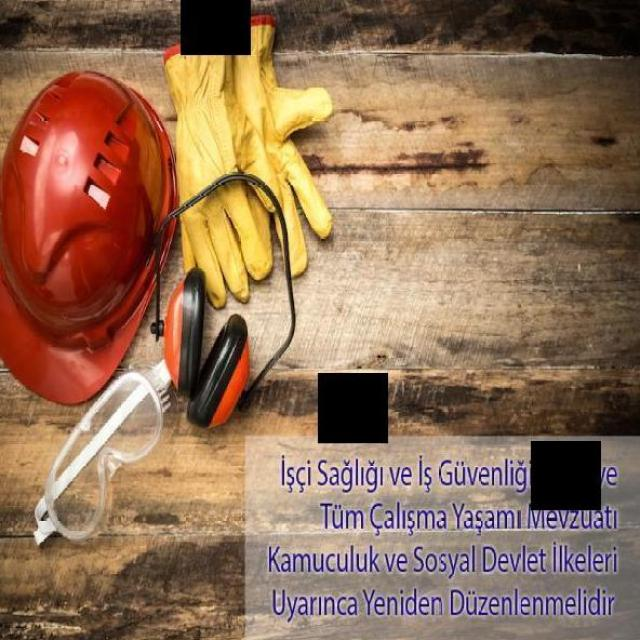red helmet: (7, 69, 177, 410)
